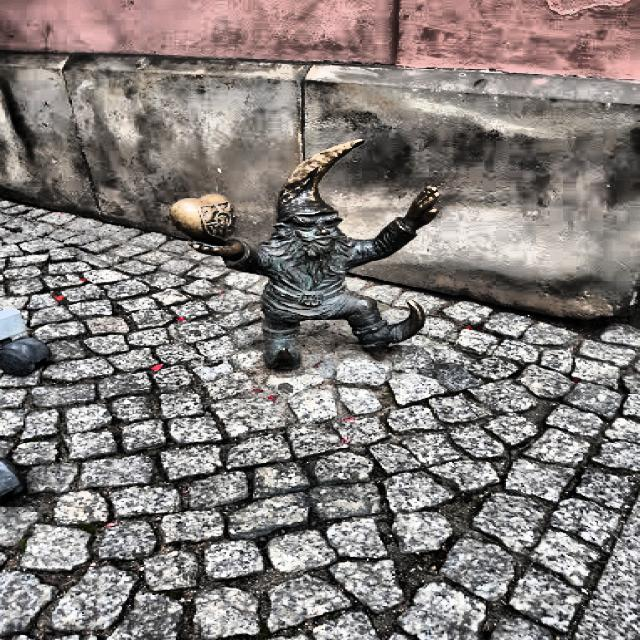WrocLovek: (172, 140, 443, 366)
